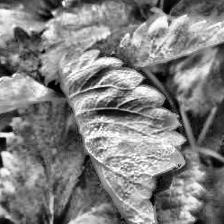Powdery Mildew Leaf: (57, 48, 188, 224), (107, 0, 224, 69)
